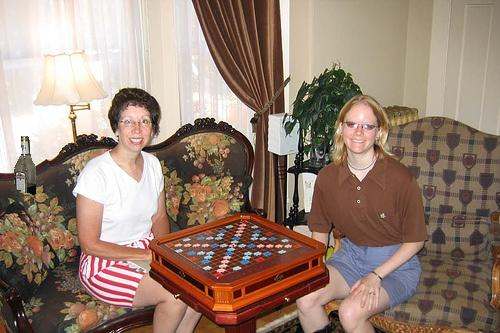tampered: (15, 137, 36, 195)
